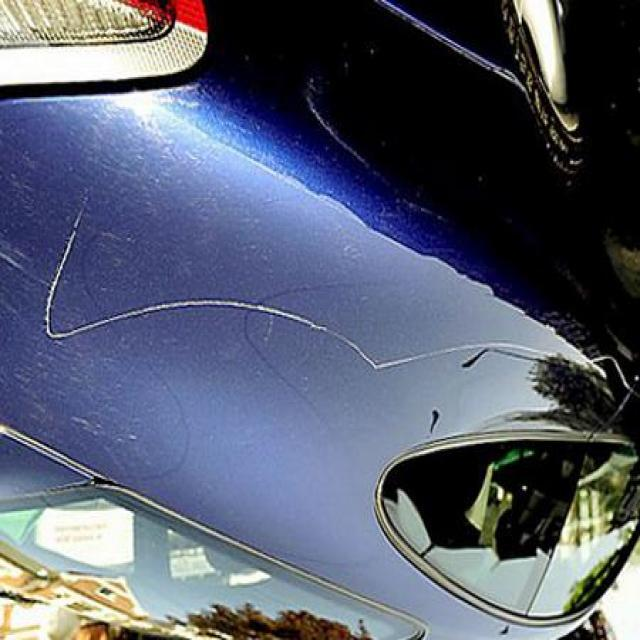scratch: (98, 289, 351, 383), (362, 338, 562, 382), (34, 194, 88, 352)
